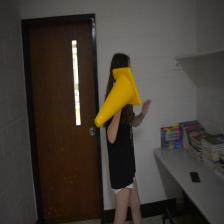cone: (94, 66, 142, 128)
